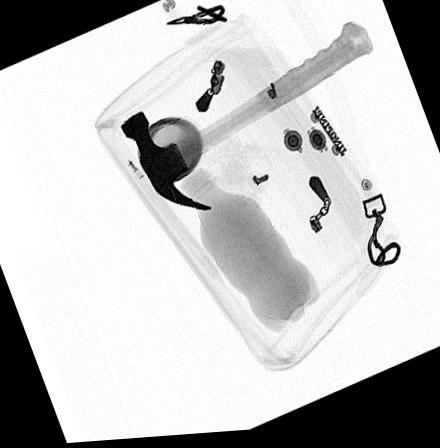Hammer: (120, 28, 375, 214)
